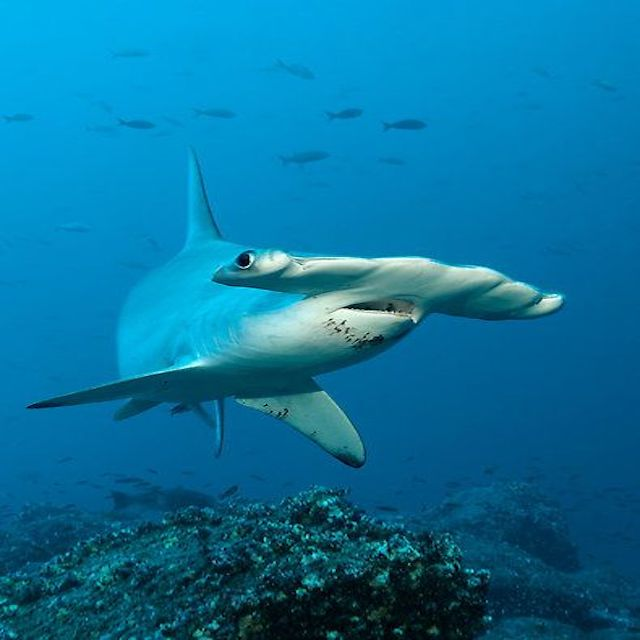hammerhead: (207, 224, 567, 372)
